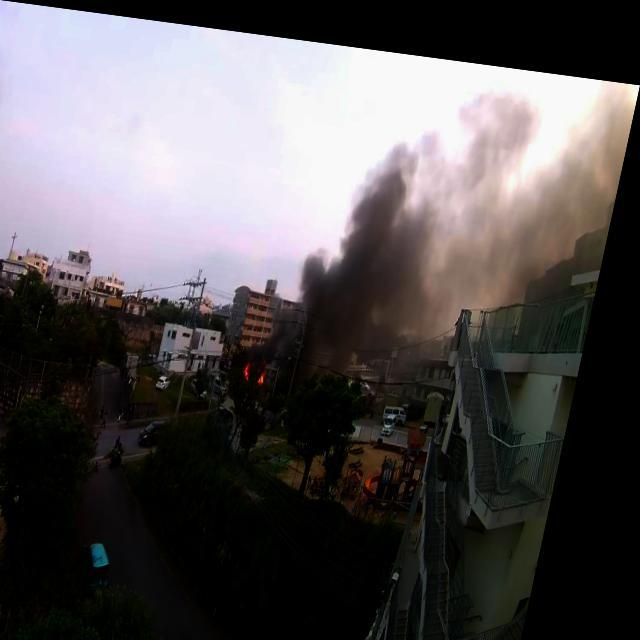Fire: (270, 357, 284, 378), (257, 354, 269, 373)
